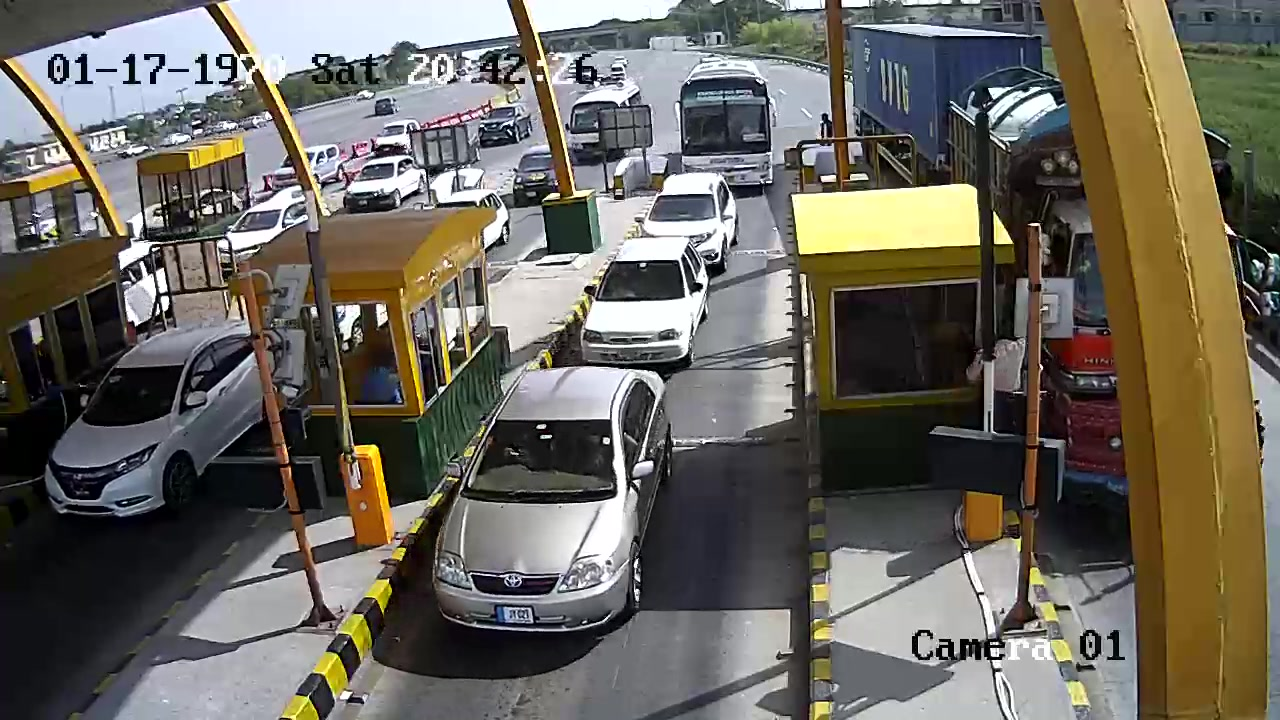F1: (432, 360, 680, 659), (577, 232, 712, 372)
